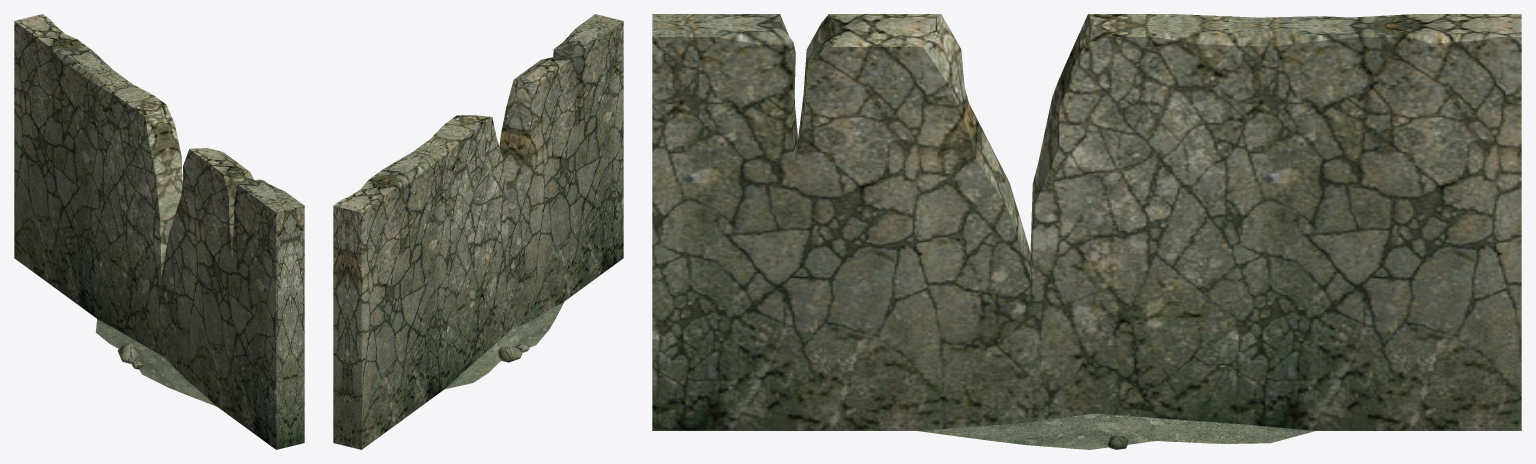
Rendered from thm_nboo_gungan_cleft_wall_lg_s01_l0.fbx.
The picture shows the model from 3 angles, left to right: view 1: azimuth 30°, elevation 25°; view 2: azimuth 150°, elevation 25°; view 3: azimuth 270°, elevation 25°; orthographic projection. The views are drawn at different scales.
Visible parts, largest first — view 1: mesh_node; view 2: mesh_node; view 3: mesh_node.
Part boxes in pixels (x1=…): mesh_node: x1=14, y1=14, x2=304, y2=449; mesh_node: x1=333, y1=14, x2=623, y2=449; mesh_node: x1=652, y1=14, x2=1521, y2=449.
Bounding box in the file's own units: 1.41 × 4.01 × 8.
